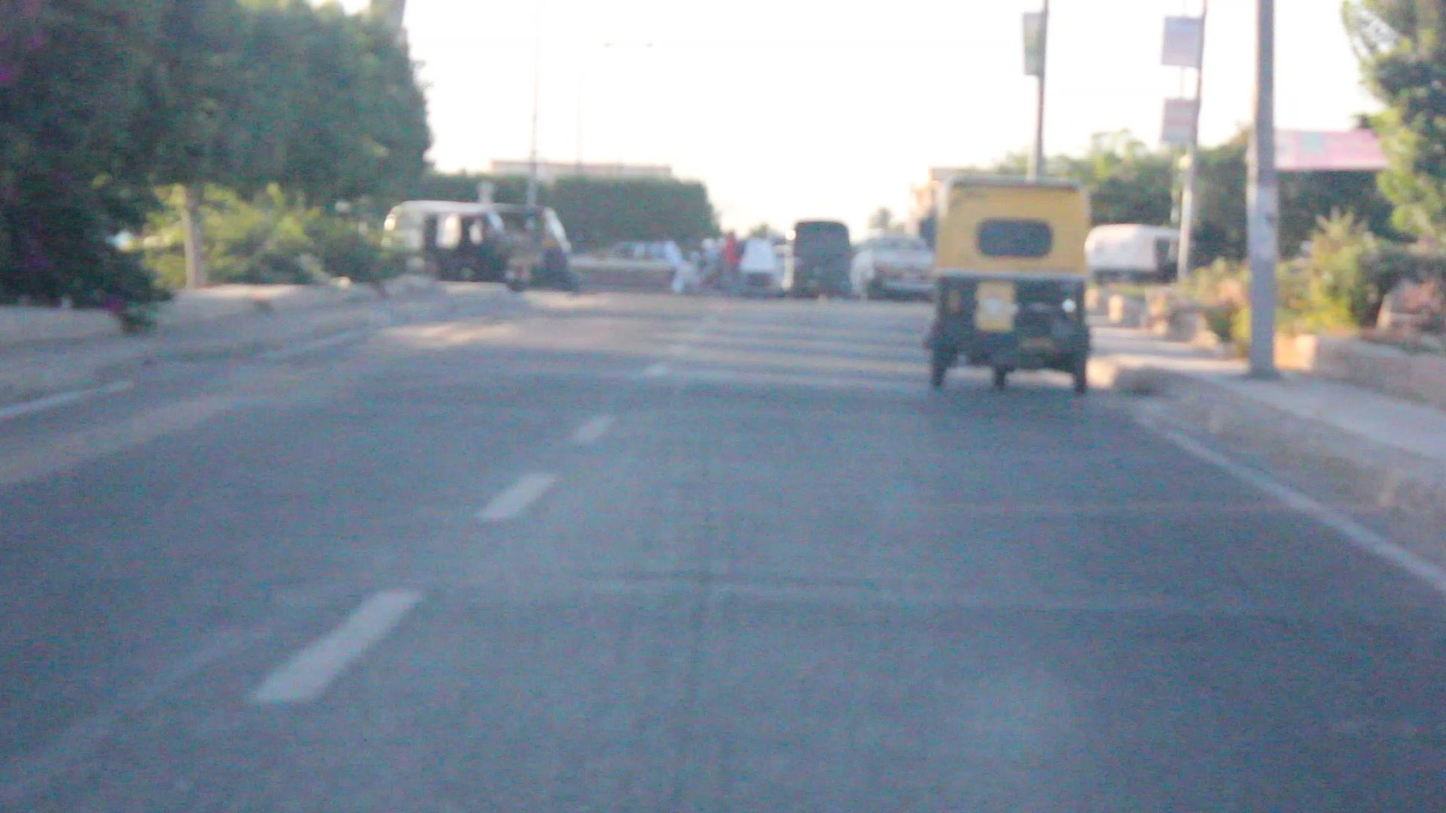Bump: (105, 351, 1200, 432)
